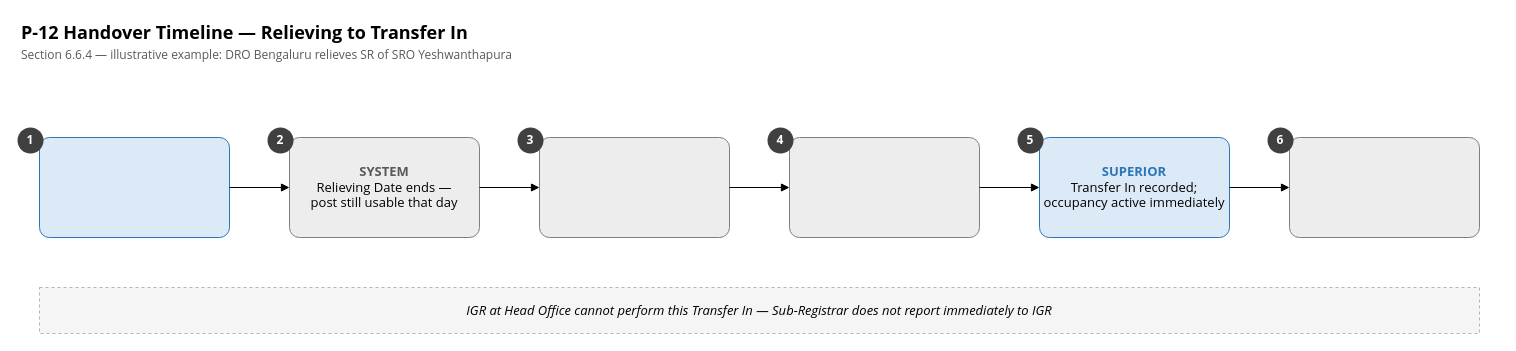
Image size: 1516x351. Some labels were removed from this diagram. Each missing label, with the centre of its shape:
"SUPERIOR (Day 0) Relieving Date entered & confirmed" belongs at point (134, 187).
"SYSTEM Capacity freed — Transfer In now allowed" belongs at point (884, 187).
"SYSTEM Midnight refresh job de-allocates mapping" belongs at point (634, 187).
"SYSTEM New officer selects post at next login" belongs at point (1384, 187).
